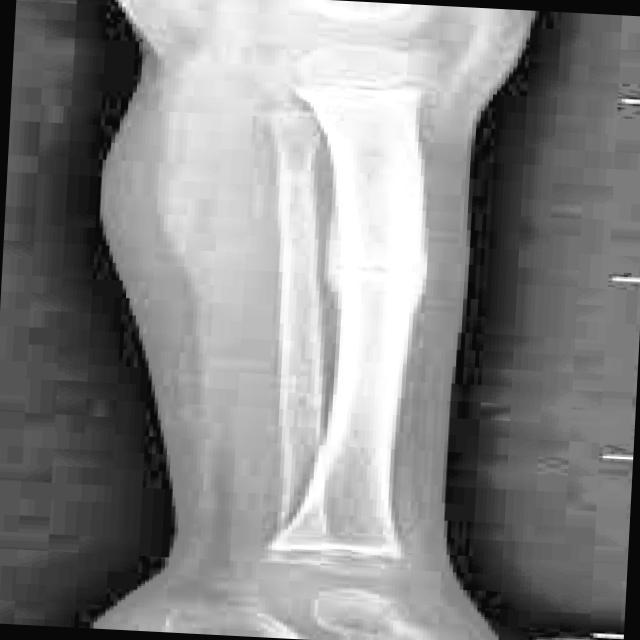GreenStick Fracture: (333, 248, 398, 284)
